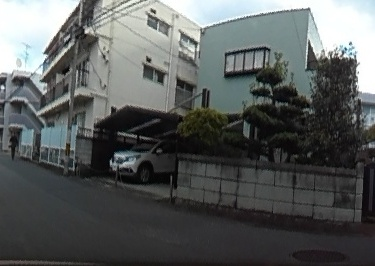person: (8, 131, 19, 156)
